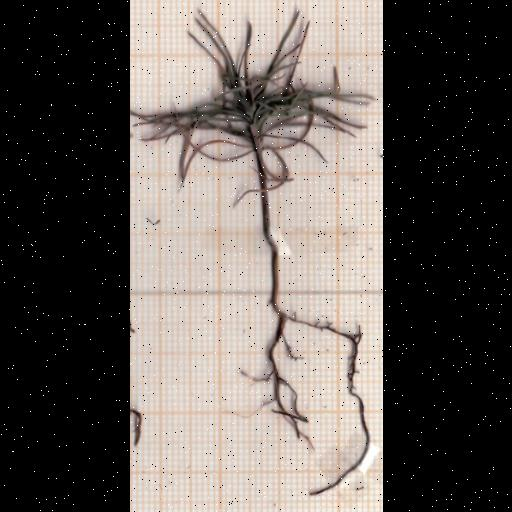flowerCedr: (137, 11, 370, 193)
rootCedr: (255, 311, 364, 449)
stemCedr: (261, 191, 278, 313)
